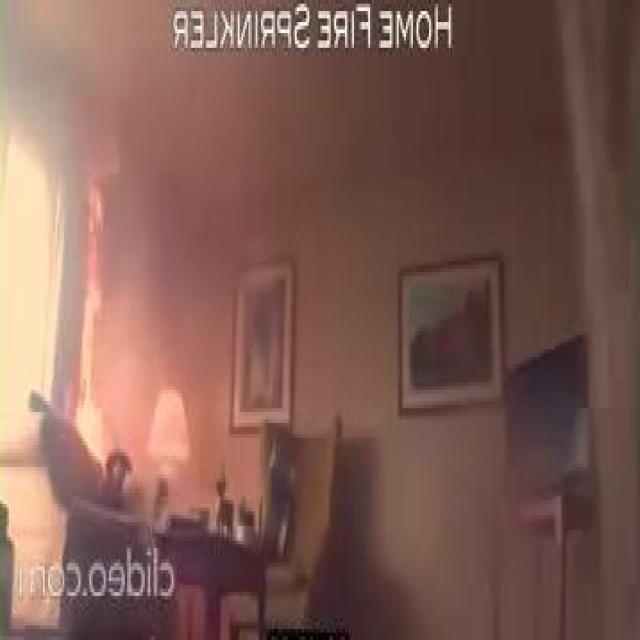smoke: (75, 172, 107, 464)
